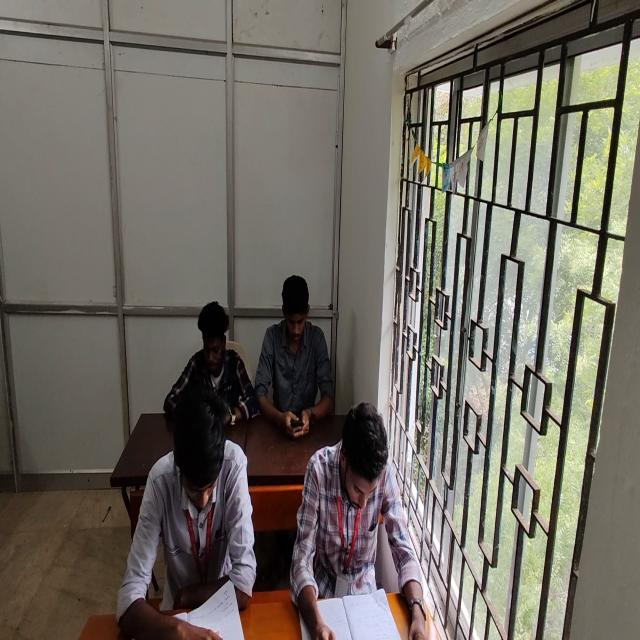reading: (94, 378, 268, 640), (291, 376, 430, 640)
using_mobile: (248, 264, 341, 452), (155, 284, 260, 434)
